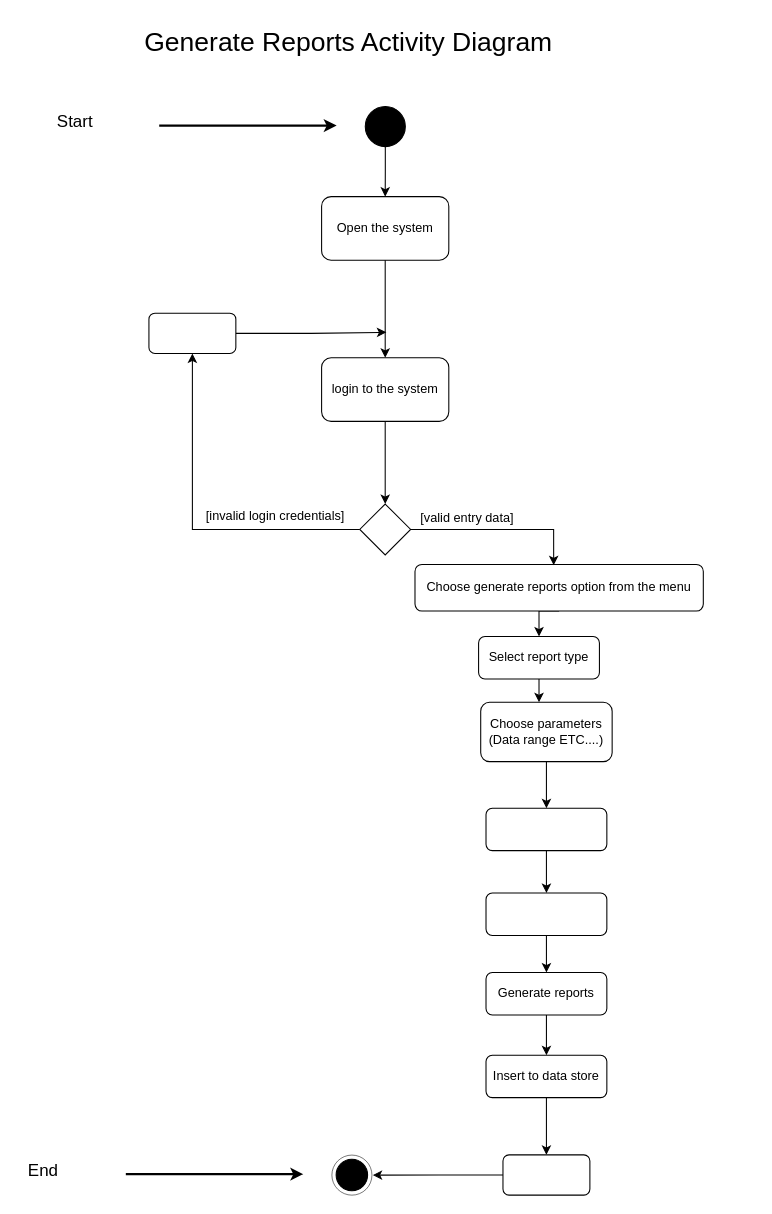
The diagram is 772 pixels wide and 1214 high, and some of its shapes have lost their labels. The centre of each missing label's shape, as x and y in pixels:
collect reports from data stores: the point at 546,913
Define format for reports: the point at 546,829
Log out: the point at 546,1174
renter login credentials: the point at 192,333
